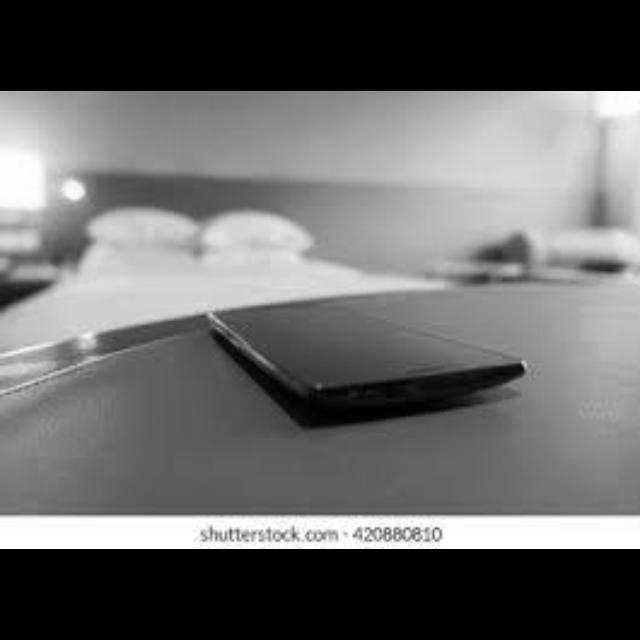fake: (172, 262, 544, 444)
